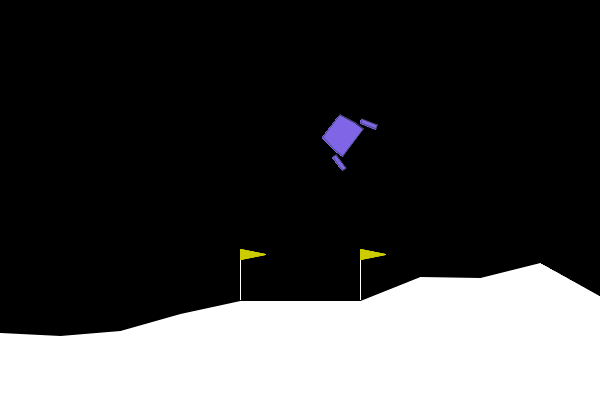lander: (311, 101, 379, 173)
